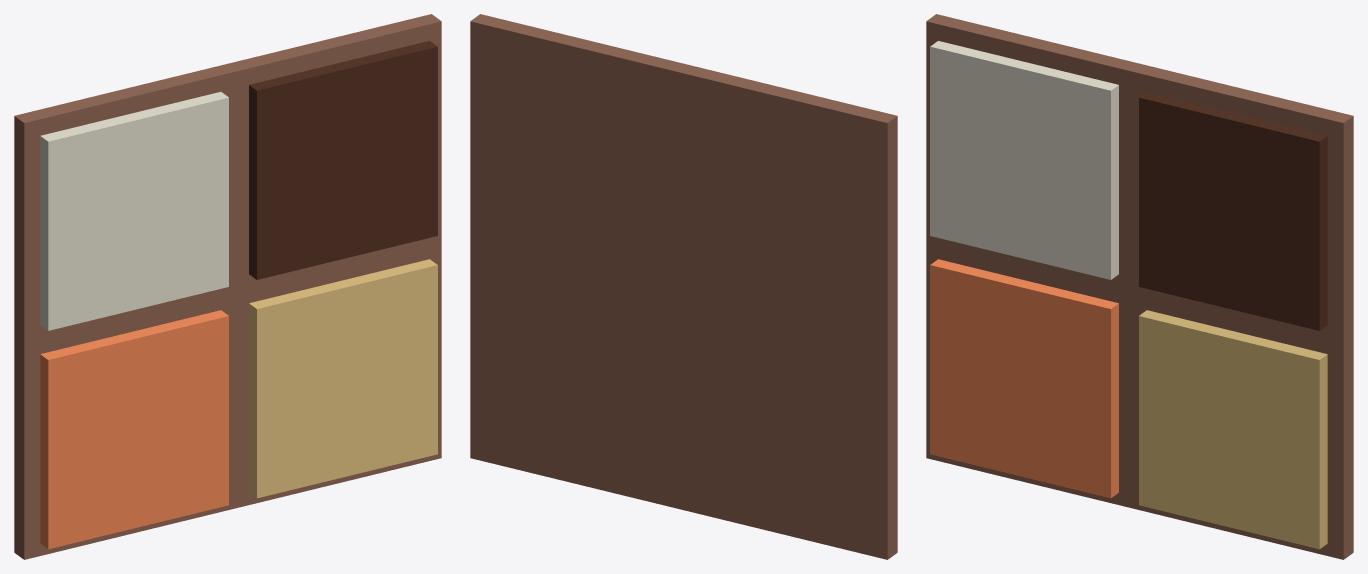
Rendered from 06_texture_remaster_overlay_6.glb.
3 renders of one model, left to right at view 1: azimuth 30°, elevation 25°; view 2: azimuth 150°, elevation 25°; view 3: azimuth 330°, elevation 25°, orthographic.
Visible parts, largest first — view 1: uv_reference_tile, atlas_quadrant_c, atlas_quadrant_d, atlas_quadrant_b, atlas_quadrant_a; view 2: uv_reference_tile; view 3: uv_reference_tile, atlas_quadrant_c, atlas_quadrant_d, atlas_quadrant_a, atlas_quadrant_b.
Part boxes in pixels (<box>): uv_reference_tile: <box>14,14,441,559</box>; atlas_quadrant_c: <box>40,92,228,330</box>; atlas_quadrant_d: <box>249,41,437,279</box>; atlas_quadrant_b: <box>249,259,437,498</box>; atlas_quadrant_a: <box>40,310,228,549</box>; uv_reference_tile: <box>470,14,897,559</box>; uv_reference_tile: <box>926,14,1353,559</box>; atlas_quadrant_c: <box>930,41,1118,279</box>; atlas_quadrant_d: <box>1139,92,1327,330</box>; atlas_quadrant_a: <box>930,259,1118,498</box>; atlas_quadrant_b: <box>1139,310,1327,549</box>.
Bounding box in the file's own units: 1.2 × 1.2 × 0.1.
